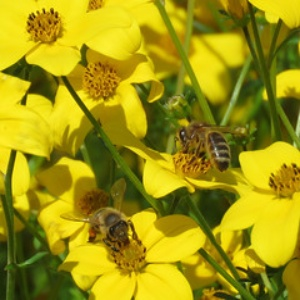bee: (179, 121, 242, 174), (86, 206, 145, 258)
